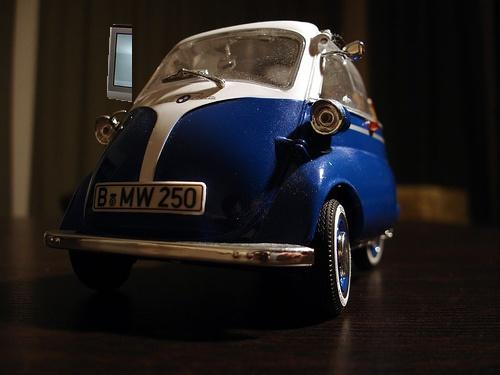tampered: (108, 25, 132, 102)
